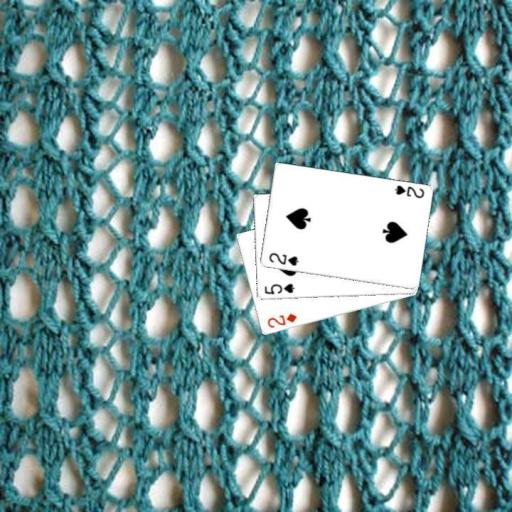card-corner: (264, 310, 298, 330), (265, 250, 300, 268), (391, 182, 425, 200), (261, 281, 295, 296)
